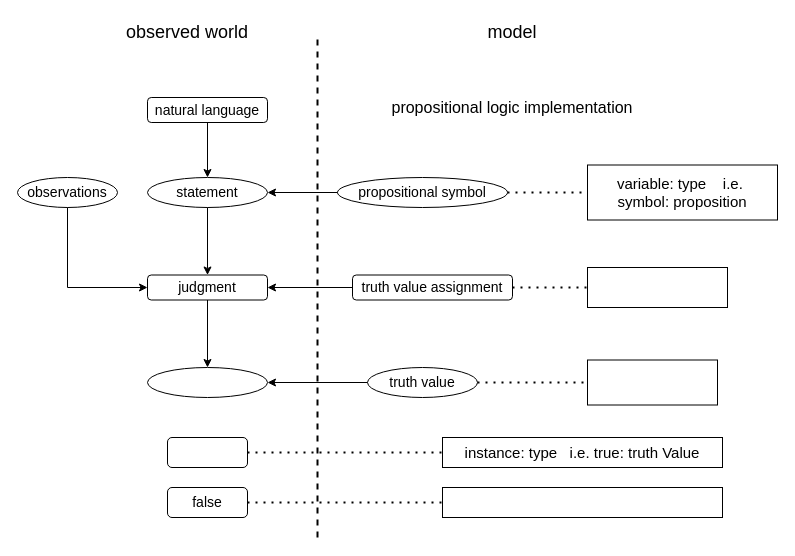
Image size: 795x556. Some labels were removed from this diagram. Each missing label, with the centre of its shape:
assignment: map: [657,287]
instance: type i.e. false: truth Value: [582,502]
true: [207,452]
true or false: [207,382]
type i.e. truth Value: [652,382]
